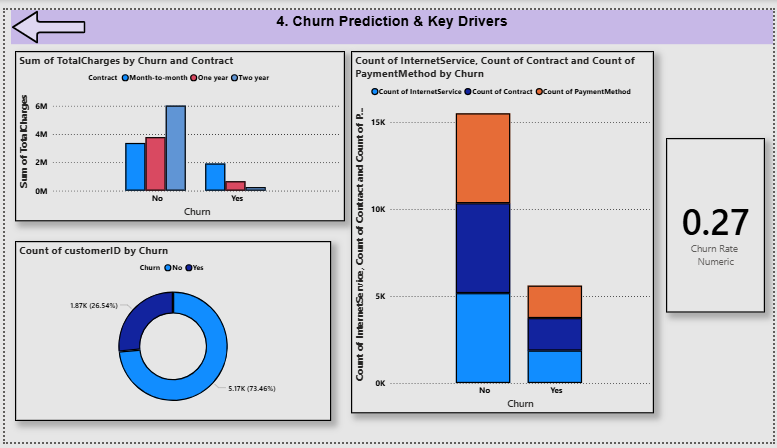

This screenshot's page, from the dashboard's own definition file:
{"tool":"powerbi","page":{"name":"Page 4","canvas":[1280,720],"ordinal":3},"visuals":[{"type":"textbox","box":[10.2,0,1270.2,57.1],"z":0},{"type":"card","fields":{"Values":["cca data set.Churn Rate Numeric"]},"box":[1102,213.7,165.4,291.2],"z":1000},{"type":"clusteredColumnChart","fields":{"Y":["Sum(cca data set.TotalCharges)"],"Category":["cca data set.Churn"],"Series":["cca data set.Contract"]},"box":[16.1,68.8,550.2,283.9],"z":2000},{"type":"columnChart","fields":{"Category":["cca data set.Churn"],"Y":["CountNonNull(cca data set.InternetService)","CountNonNull(cca data set.Contract)","CountNonNull(cca data set.PaymentMethod)"]},"box":[576.6,68.8,504.9,604.4],"z":3000},{"type":"shape","box":[10.2,0,124.4,57.1],"z":4000},{"type":"donutChart","fields":{"Category":["cca data set.Churn"],"Y":["CountNonNull(cca data set.customerID)"]},"box":[16.1,384.9,526.8,300],"z":5000}]}

Visuals, with their boxes in screenshot pixels (x1, y1, x2, y2), scaled from the page's 1280x720 canvas onto the 777x448 screenshot:
textbox: 6 0 776 36
card - cca data set.Churn Rate Numeric: 669 133 769 314
clusteredColumnChart - Sum(cca data set.TotalCharges) x cca data set.Churn: 10 43 344 219
columnChart - cca data set.Churn x CountNonNull(cca data set.InternetService): 350 43 657 419
shape: 6 0 82 36
donutChart - cca data set.Churn x CountNonNull(cca data set.customerID): 10 239 330 426
